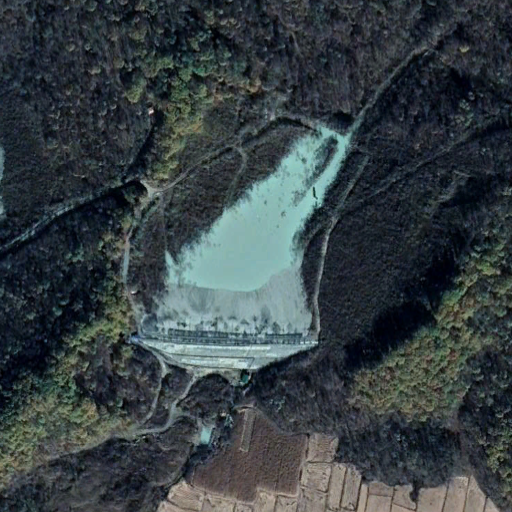tp: (137, 128, 350, 372)
